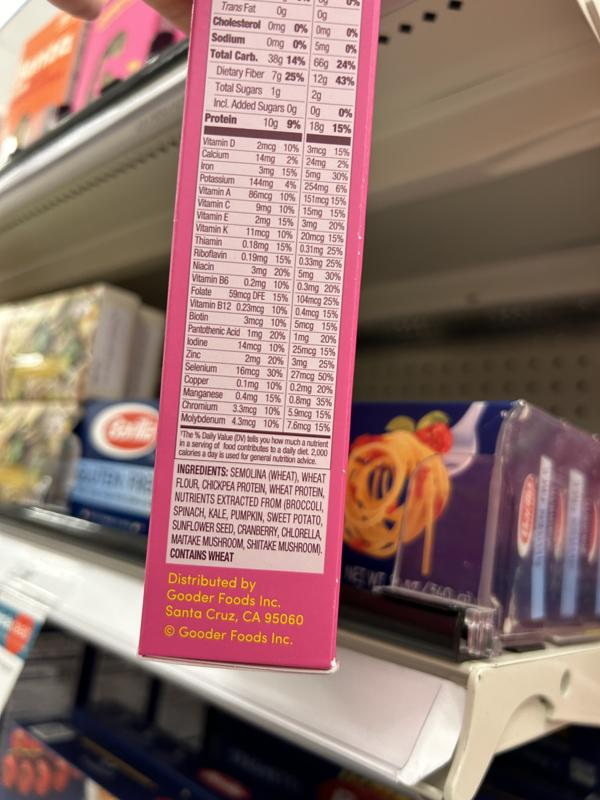ingredients: (170, 462, 328, 556)
